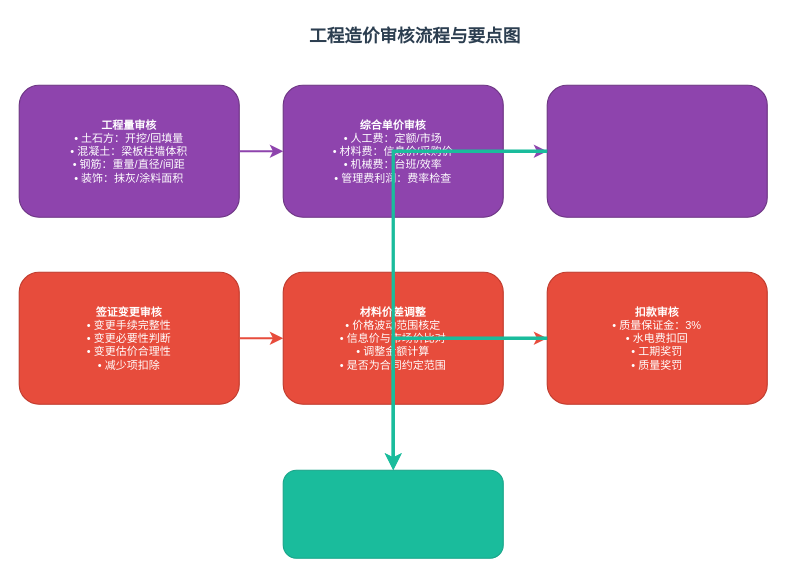
Image size: 787x578. Some labels were removed from this diagram. The shapes that lost their labels are listed below. From the top down, each one's centre as x and y in pixels, then its label:
At point (656, 150): "措施费/规费审核 • 安全文明施工费 • 冬雨季施工增加费 • 高原施工增加费 • 规费：社保/公积金".
At point (392, 513): "审核结论 工程造价审核确认表 核增/核减明细".
